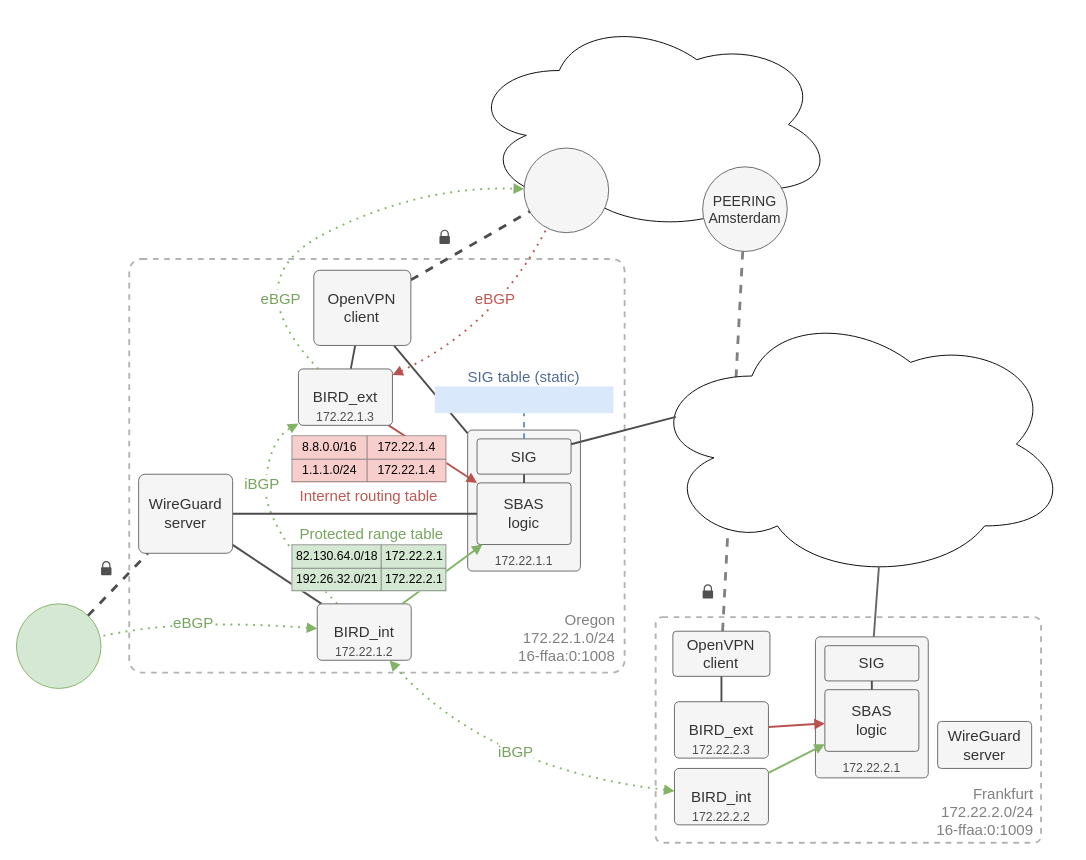
This 1086x860 diagram has some shape labels left out. The box of each missing label's shape, as (x1, y1, x2, y2) in pixels:
172.22.2.0/24 16-ffaa:0:1009: (434, 386, 613, 413)
Customer AS: (16, 603, 101, 688)
IP Internet: (467, 16, 834, 233)
PEERING Seattle: (523, 147, 609, 233)
SCIONLab: (645, 307, 1069, 580)
